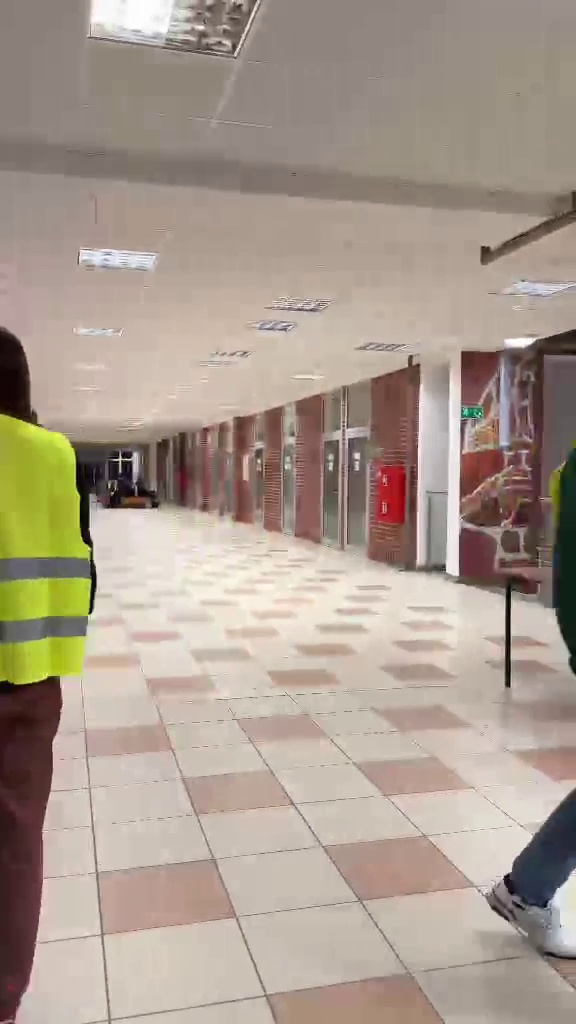vest: (0, 322, 112, 1004)
